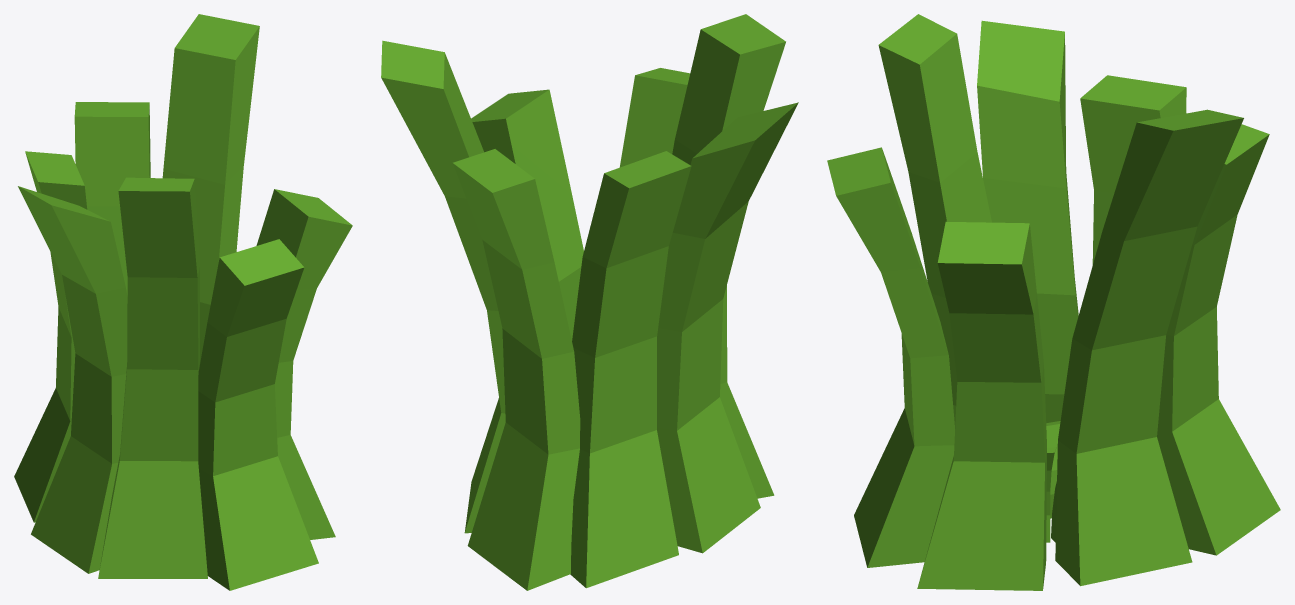
File: trava.fbx
3 renders of one model, left to right at view 1: azimuth 30°, elevation 25°; view 2: azimuth 150°, elevation 25°; view 3: azimuth 270°, elevation 25°, orthographic. The views are drawn at different scales.
Visible parts, largest first — view 1: Grass #4; view 2: Grass #4; view 3: Grass #4.
Boxes of the visible parts, box(x1,y1,x2,y2) form: Grass #4: box(14, 14, 352, 590); Grass #4: box(381, 14, 798, 590); Grass #4: box(827, 14, 1280, 590).
Size of the model in its own units: 171 by 236 by 201.
